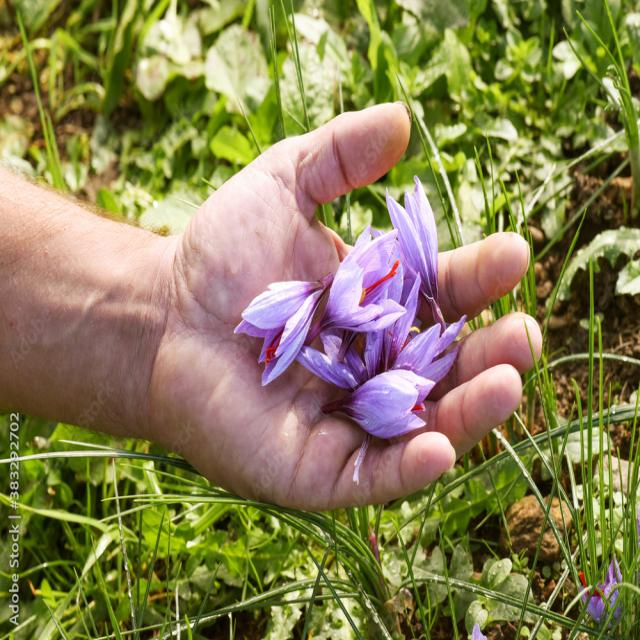saffron open: (237, 180, 466, 481), (304, 226, 405, 346), (237, 273, 334, 385), (386, 176, 446, 335), (323, 371, 434, 438)
